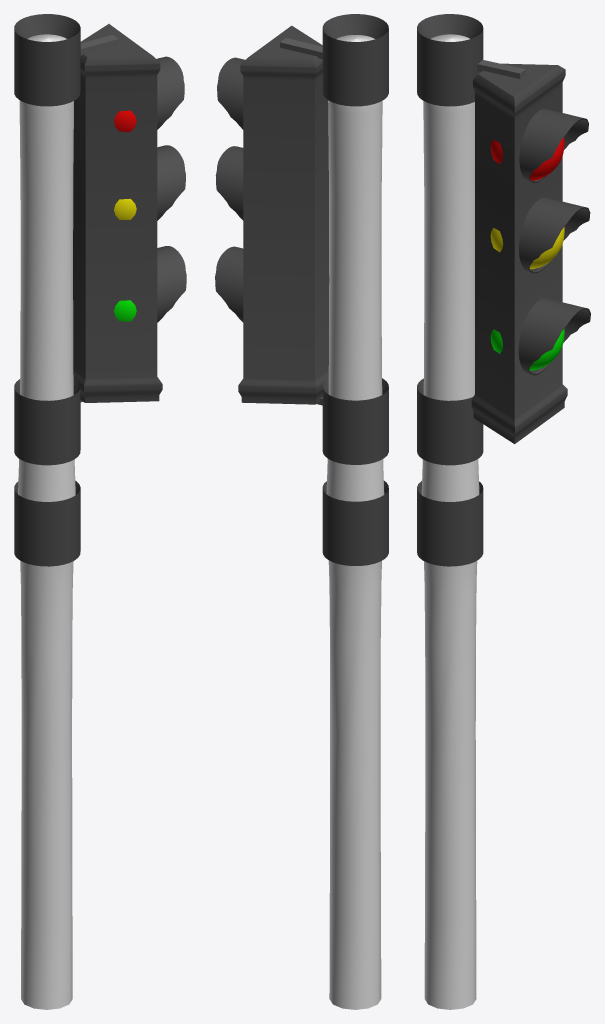
The model's file is TrafficLightSimple.fbx.
3 views of the same model, side by side, from view 1: azimuth 30°, elevation 25°; view 2: azimuth 150°, elevation 25°; view 3: azimuth 330°, elevation 25° (orthographic).
Parts seen in each view (by area): view 1: traffic light; view 2: traffic light; view 3: traffic light.
Boxes of the visible parts, box(x1,y1,x2,y2) form: traffic light: box(14, 14, 186, 1009); traffic light: box(215, 14, 388, 1009); traffic light: box(417, 14, 590, 1009).
Bounding box in the file's own units: 43.4 × 257 × 25.31.
